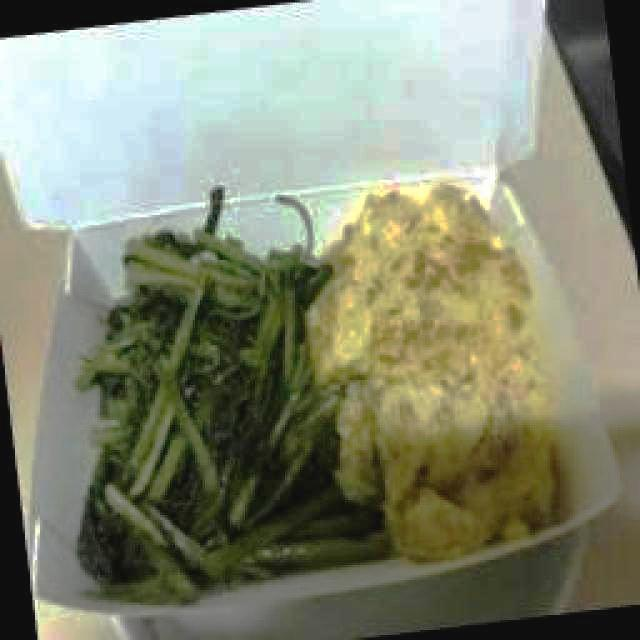curry: (322, 186, 537, 406), (379, 402, 554, 536)
water_spinach: (78, 195, 372, 601), (96, 281, 193, 402), (120, 227, 264, 305)
